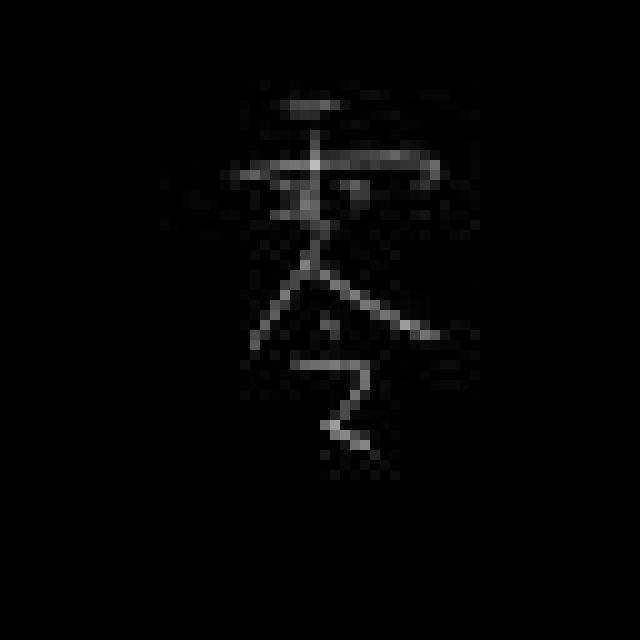0 -zero-: (218, 86, 459, 479)
